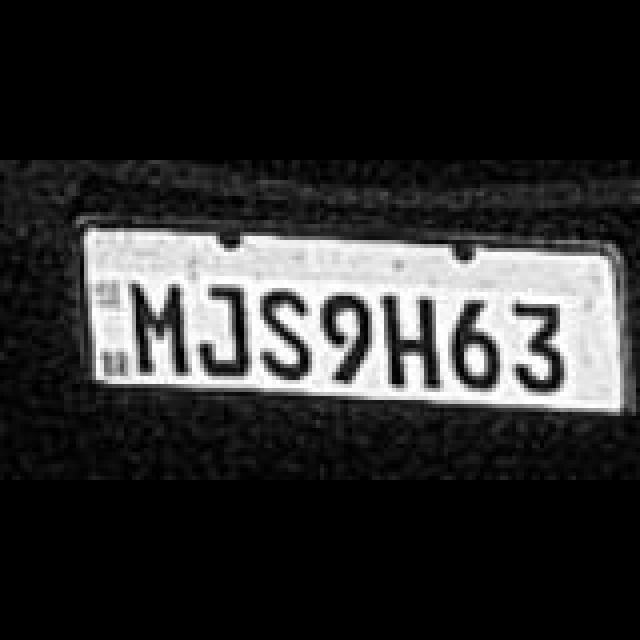3: (512, 302, 568, 394)
6: (448, 302, 504, 394)
9: (322, 294, 374, 386)
H: (382, 296, 442, 392)
J: (194, 284, 254, 380)
M: (128, 278, 192, 378)
S: (258, 290, 310, 382)
